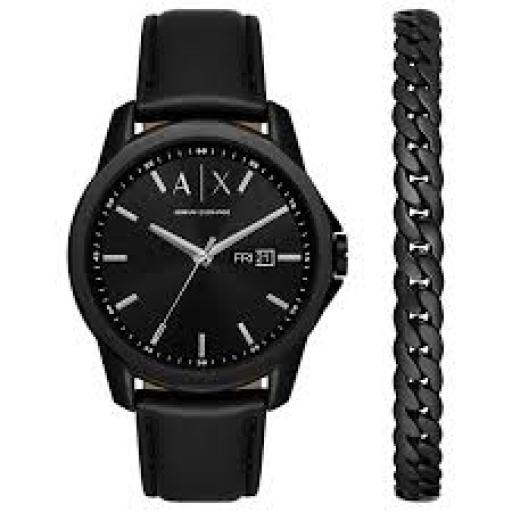KolSaati: (56, 6, 356, 512)
